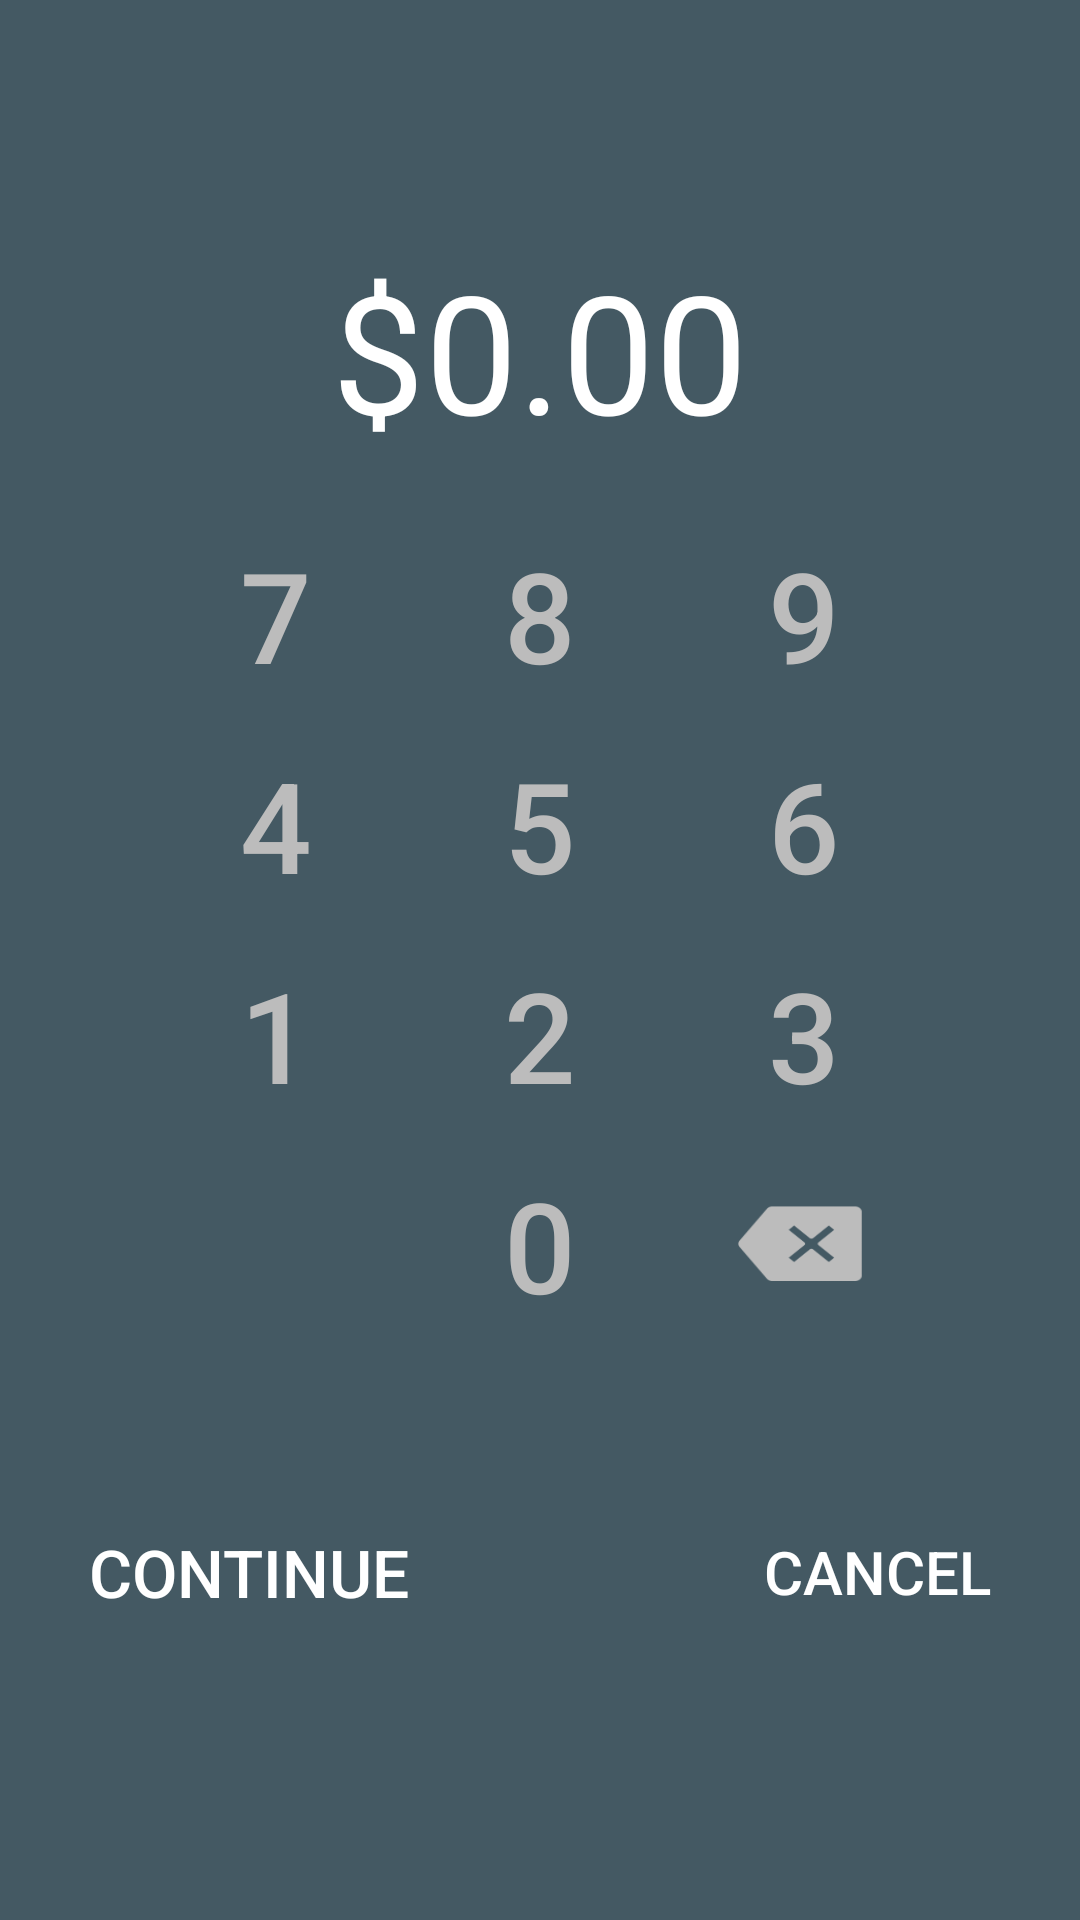

Screen size 1080px x 1920px. Icon name, then its center in pixels as [x,y]:
back: [800,1243]
